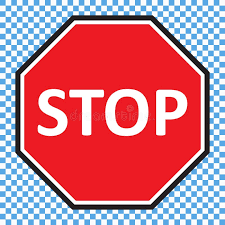stop sign: (14, 14, 210, 211)
